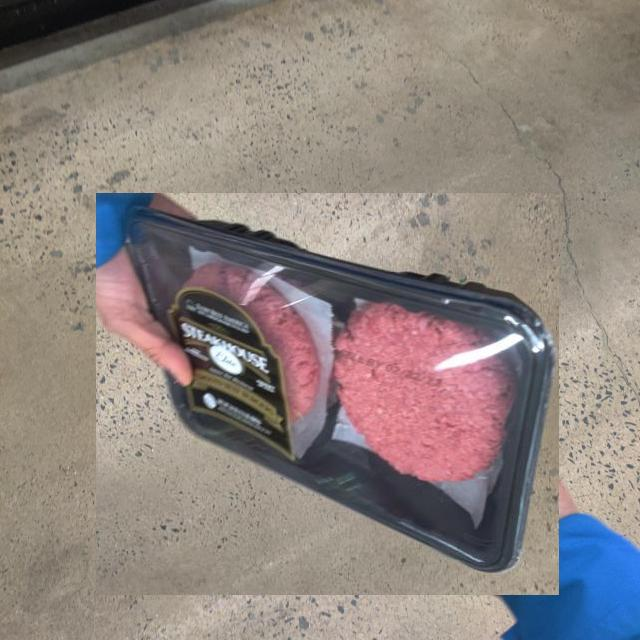Meat: (95, 192, 559, 595)
